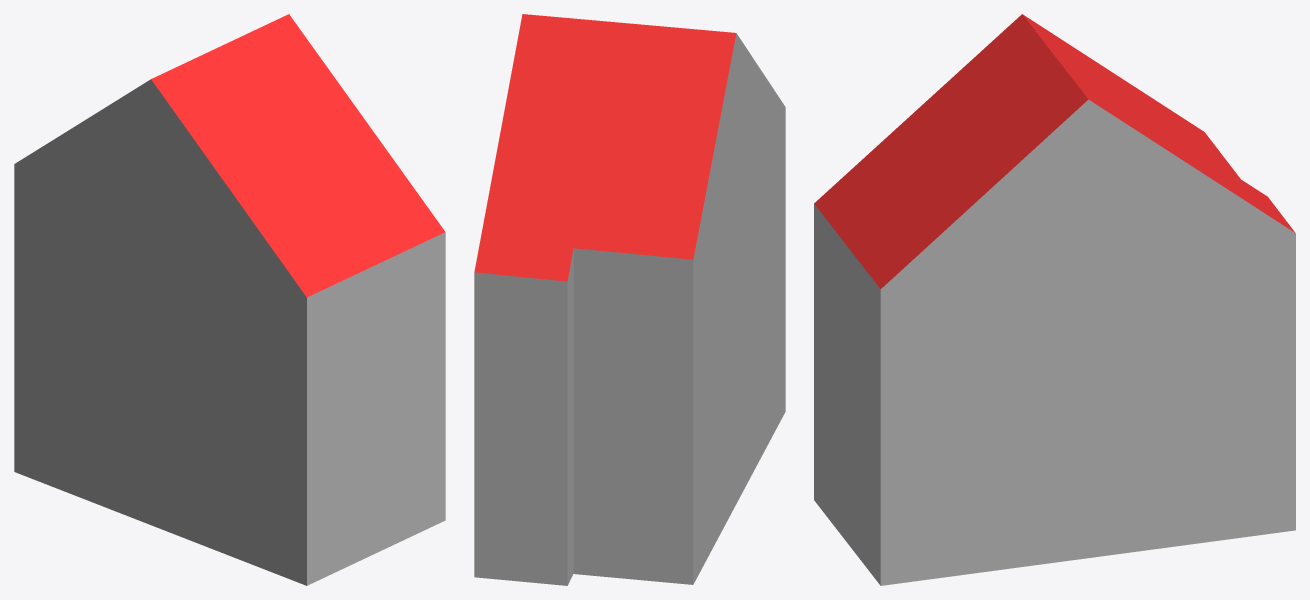
File: DEBY_LOD2_4830000.dae
The picture shows the model from 3 angles, left to right: view 1: azimuth 30°, elevation 25°; view 2: azimuth 150°, elevation 25°; view 3: azimuth 270°, elevation 25°; orthographic projection. The views are drawn at different scales.
Size of the model in its own units: 9.25 by 13.71 by 14.4.
